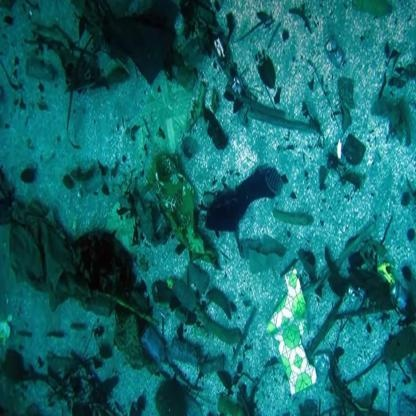plastic: (156, 165, 230, 296), (274, 261, 316, 416)
